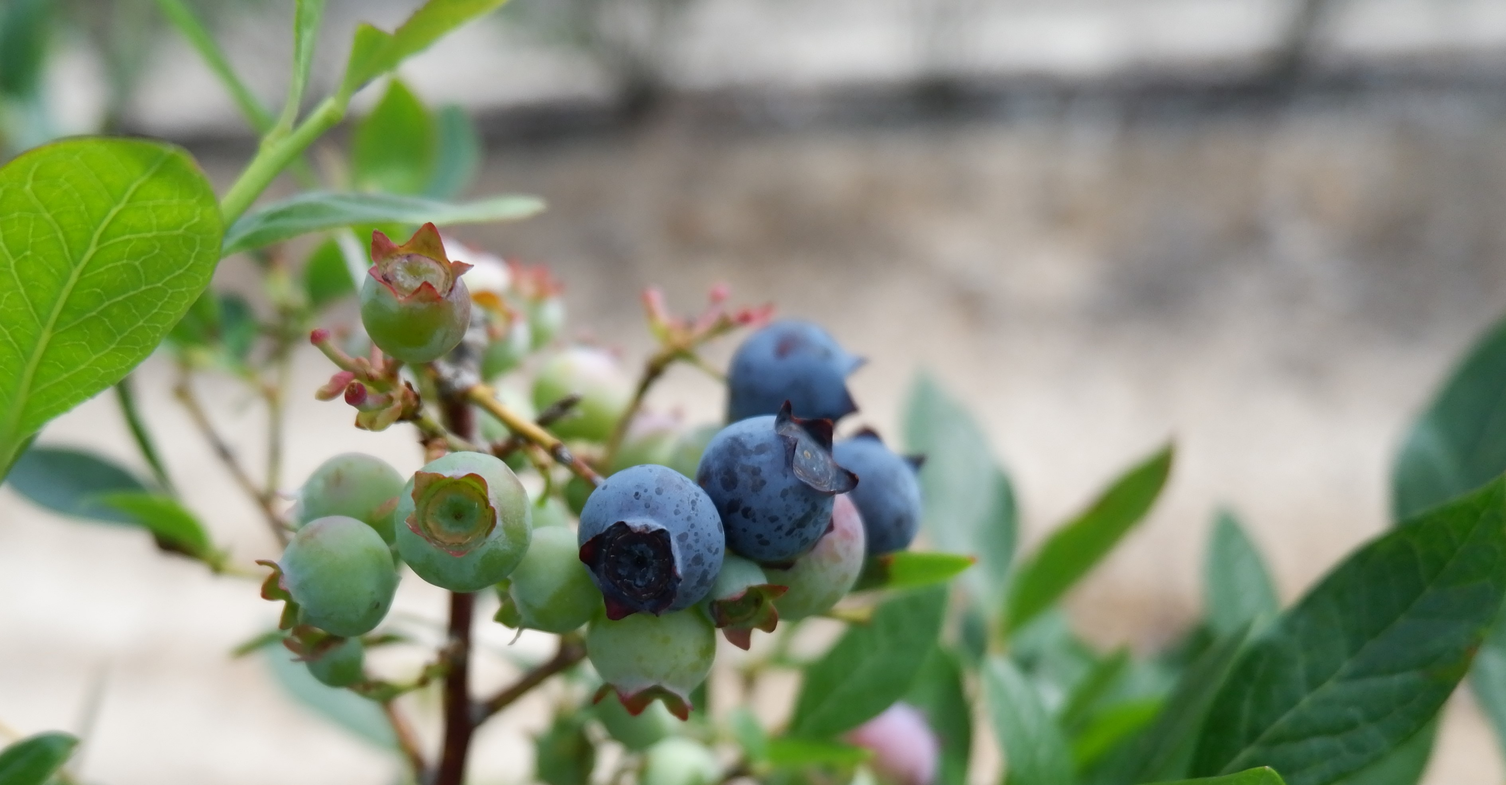Immature: (397, 457, 526, 588), (266, 518, 395, 636), (361, 228, 465, 360), (589, 607, 713, 713), (768, 503, 863, 619), (497, 527, 594, 632), (540, 349, 633, 441), (299, 457, 397, 529), (709, 553, 777, 650), (284, 627, 363, 687)
Mature: (578, 467, 719, 616), (700, 419, 845, 562), (728, 321, 865, 424), (834, 434, 923, 557)
